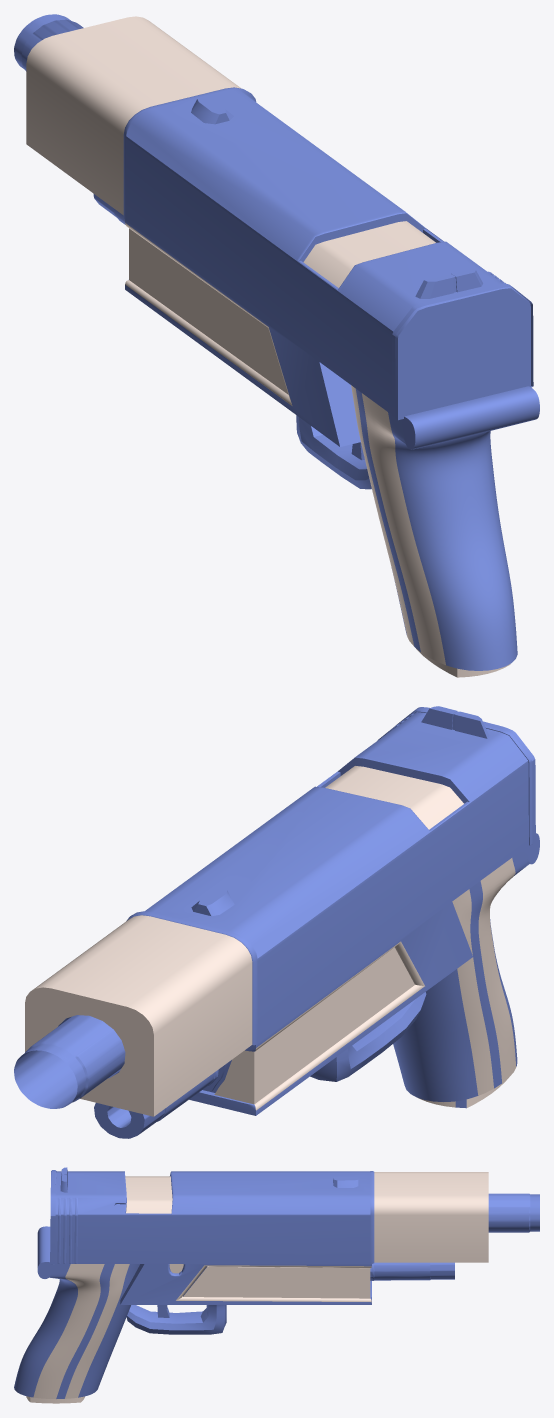
File: Blaster.fbx
3 renders of one model, top to bottom at view 1: azimuth 30°, elevation 25°; view 2: azimuth 150°, elevation 25°; view 3: azimuth 270°, elevation 25°, orthographic. The views are drawn at different scales.
Visible parts, largest first — view 1: Cube.003; view 2: Cube.003; view 3: Cube.003.
Boxes of the visible parts, <box> form: Cube.003: <box>14,14,539,677</box>; Cube.003: <box>14,706,539,1138</box>; Cube.003: <box>14,1167,539,1403</box>.
Size of the model in its own units: 99.36 by 260 by 566.
